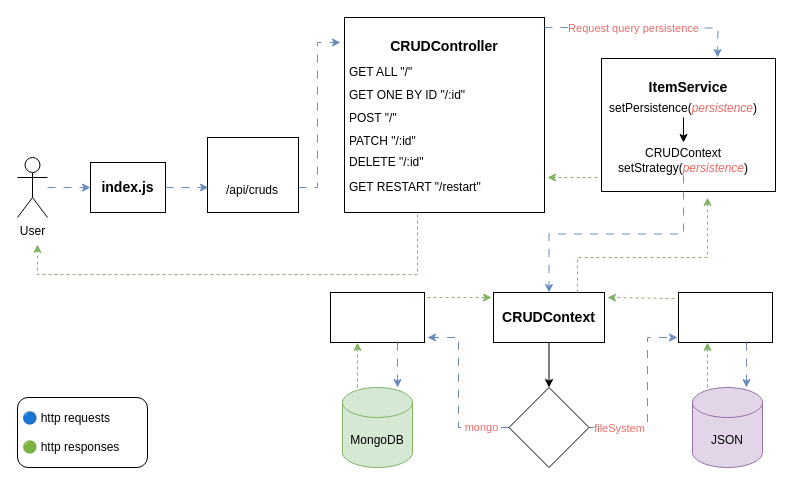
Image size: 793x485. Some labels were removed from this diagram. Here are the shapes that lost their labels. From the top down, the box of each, then its label:
(206, 136, 298, 212): Router
(330, 292, 424, 342): CRUDStrategy MongoDb
(678, 292, 772, 342): CRUDStrategy FileSystem
(508, 386, 589, 468): Strategy
